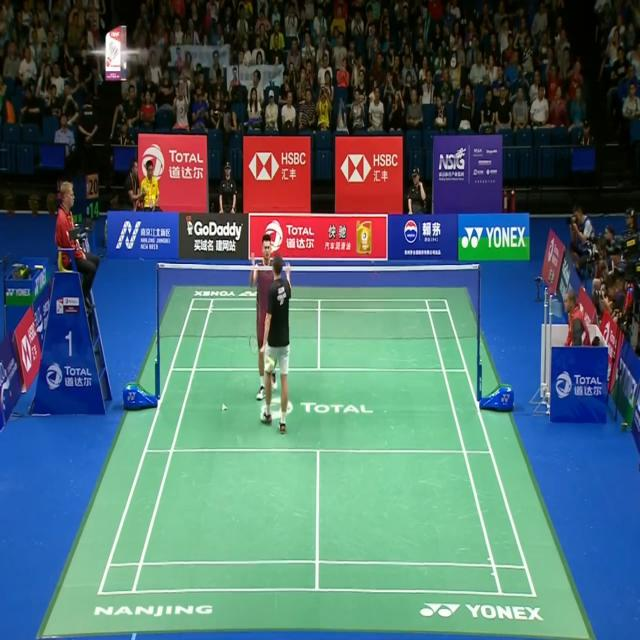Player1: (246, 232, 296, 451)
